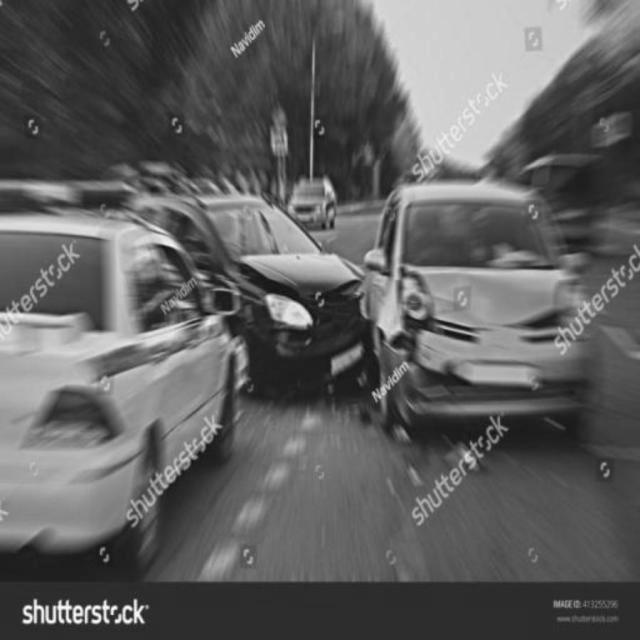accident: (201, 179, 582, 433)
vehicle: (2, 203, 245, 560), (290, 174, 337, 228)
